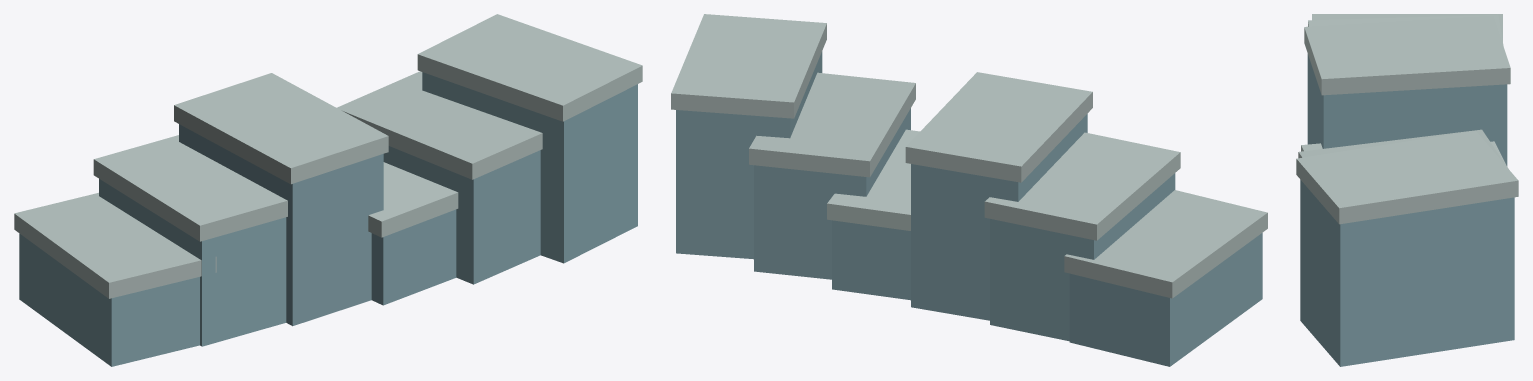
Rendered from map-exclusive-v3__frost_13.glb.
3 views of the same model, side by side, from view 1: azimuth 30°, elevation 25°; view 2: azimuth 150°, elevation 25°; view 3: azimuth 270°, elevation 25° (orthographic).
Parts seen in each view (by area): view 1: frost_13; view 2: frost_13; view 3: frost_13.
Part boxes in pixels (x1,y1,x2,y2): frost_13: (14, 14, 642, 366); frost_13: (671, 14, 1267, 366); frost_13: (1296, 14, 1518, 366).
Bounding box in the file's own units: 3.56 × 0.995 × 1.25.
